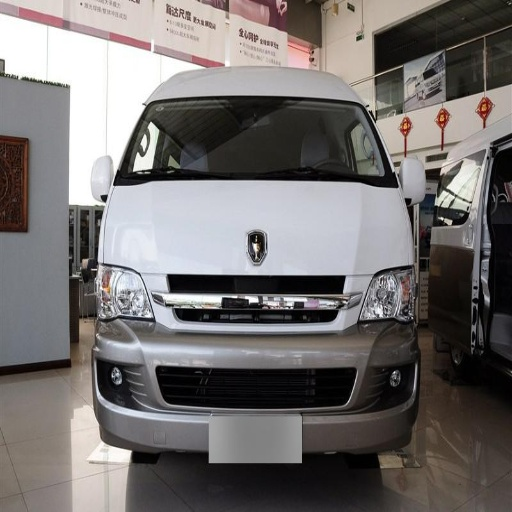front_bumper: (94, 273, 416, 463)
front_right_light: (90, 261, 151, 319)
hood: (105, 180, 411, 274)
